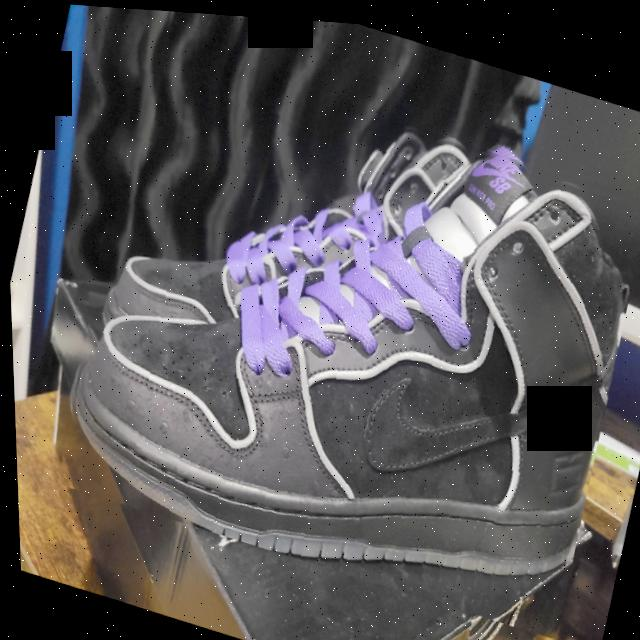shoe: (33, 28, 640, 638)
